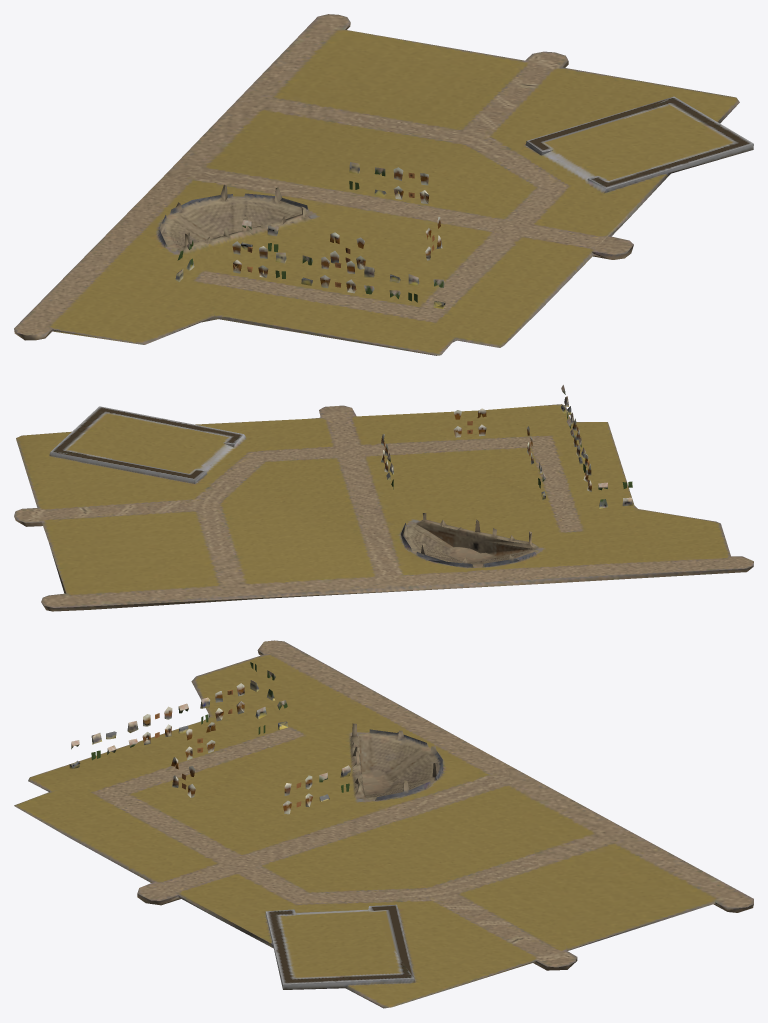
Rendered from clod_town_t06_clod000.gltf.
The picture shows the model from 3 angles, top to bottom: view 1: azimuth 30°, elevation 25°; view 2: azimuth 150°, elevation 25°; view 3: azimuth 270°, elevation 25°; orthographic projection. The views are drawn at different scales.
Visible parts, largest first — view 1: clod_town_t06_clod000_000_meshShape:remesh_mat; view 2: clod_town_t06_clod000_000_meshShape:remesh_mat; view 3: clod_town_t06_clod000_000_meshShape:remesh_mat.
Part boxes in pixels (x1=…): clod_town_t06_clod000_000_meshShape:remesh_mat: x1=14, y1=14, x2=753, y2=355; clod_town_t06_clod000_000_meshShape:remesh_mat: x1=14, y1=385, x2=753, y2=611; clod_town_t06_clod000_000_meshShape:remesh_mat: x1=14, y1=640, x2=753, y2=1008.
Bounding box in the file's own units: 209 × 18.69 × 178.
Materials: 1 (1 with a texture image).
